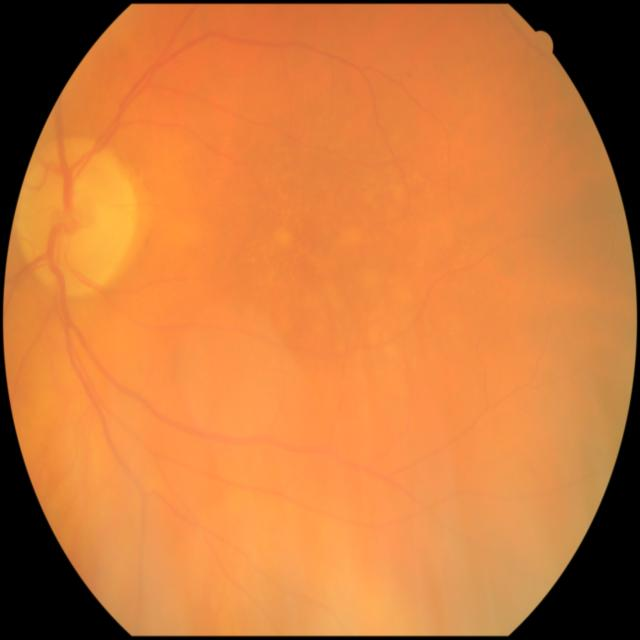OD: (18, 142, 138, 298)
